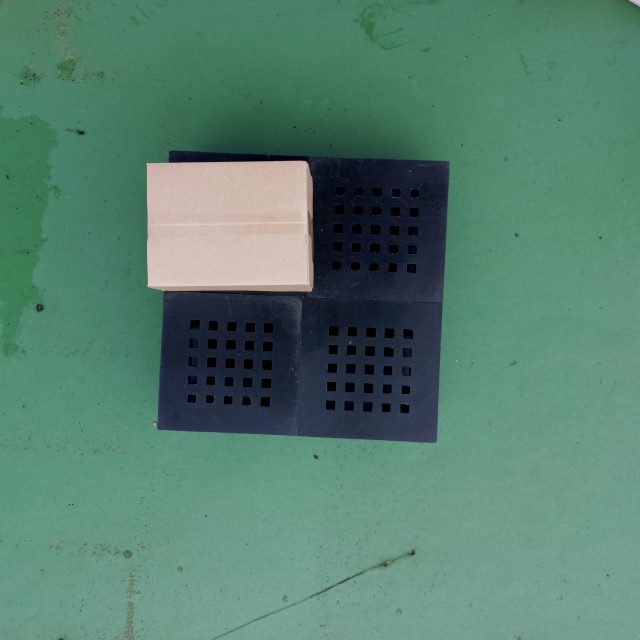box: (144, 157, 314, 295)
pallet: (146, 150, 451, 449)
